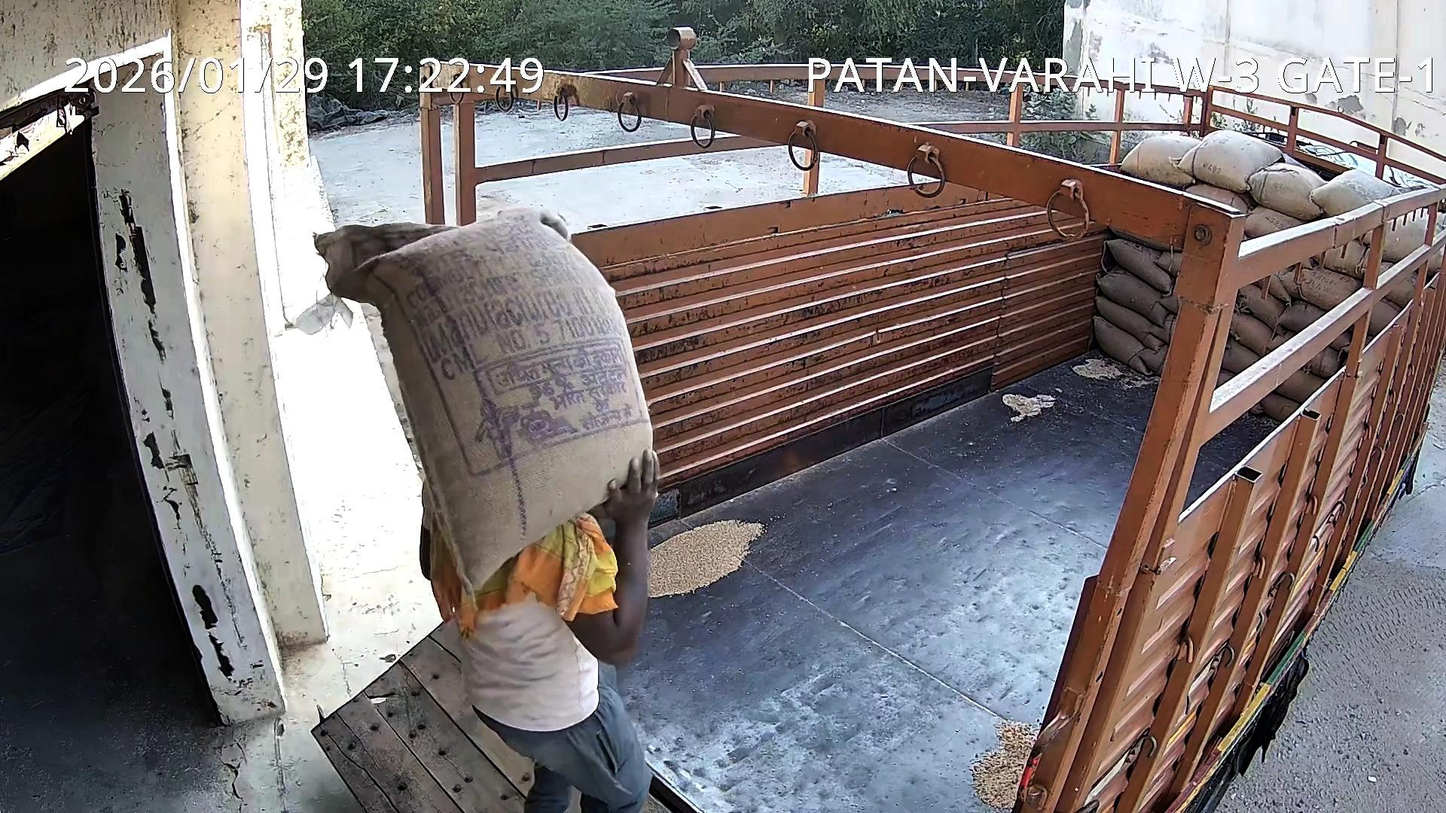Sack: (316, 207, 651, 587)
